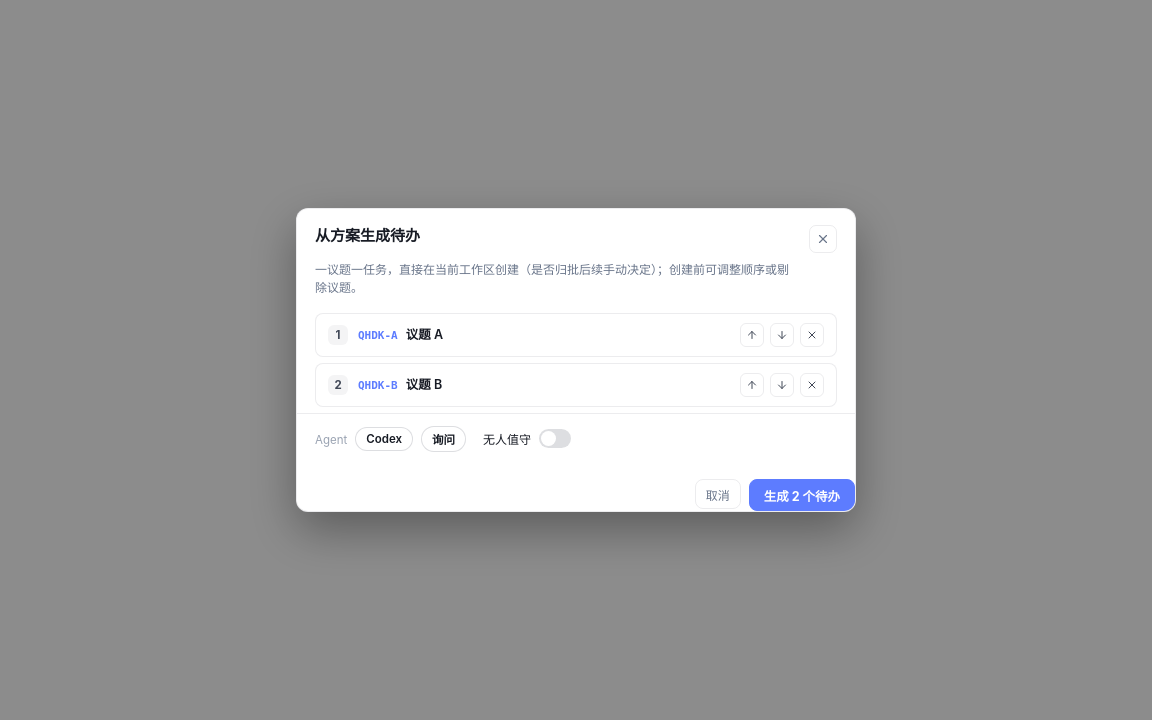
Test: GeneratePlanTodosDialog 无人值守 › 勾选无人值守后权限徽标不可再循环
Step 1. Click the switch named "整链自动接续" → [527, 439], box [474,424,580,453]
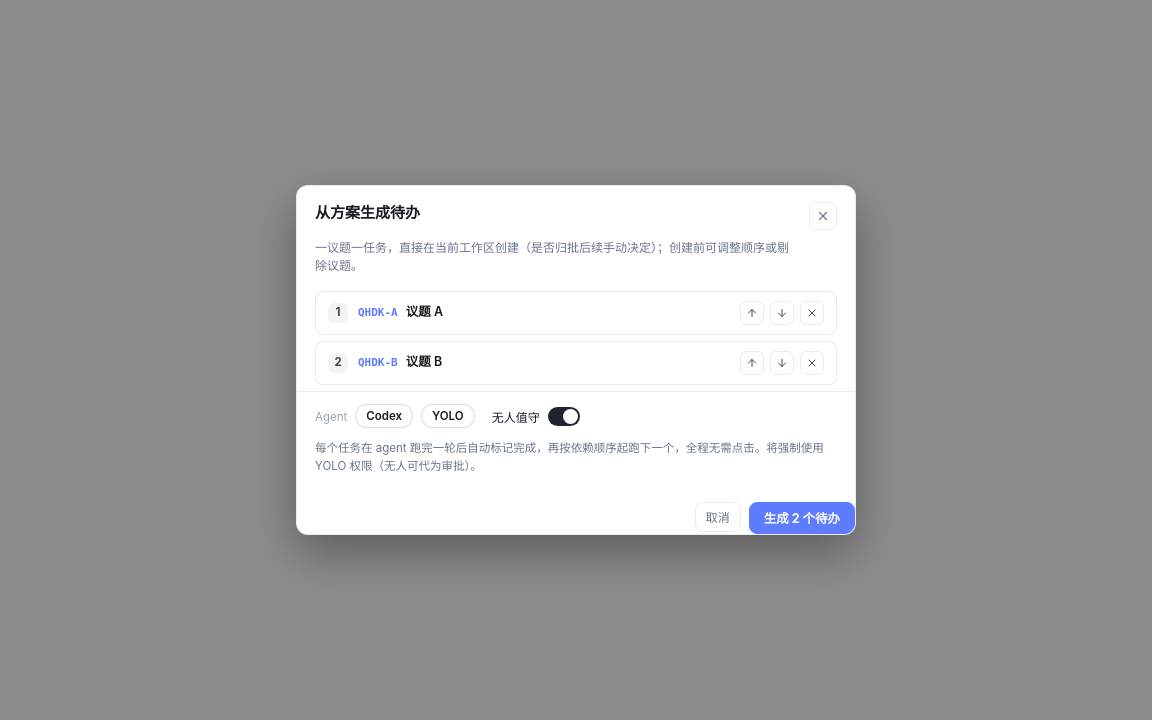
Expected: the button "YOLO" is disabled, [421,404,475,428]
